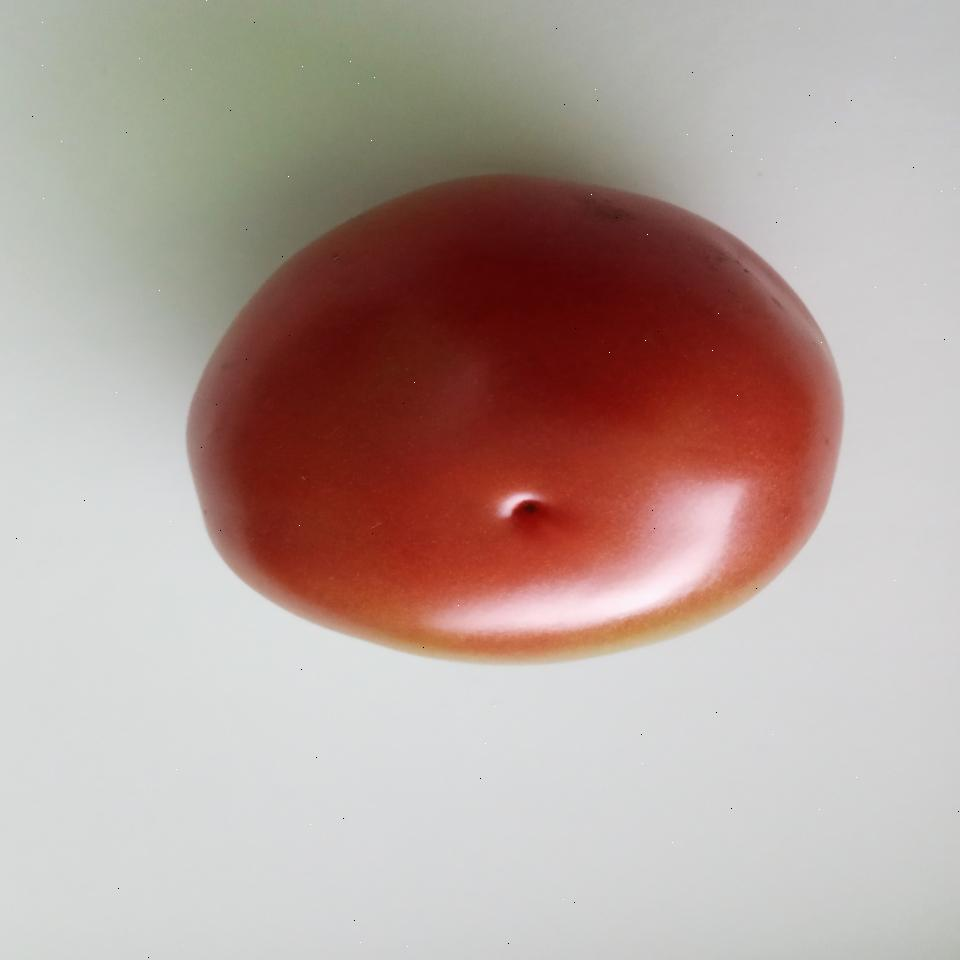Healthy: (173, 173, 855, 675)
